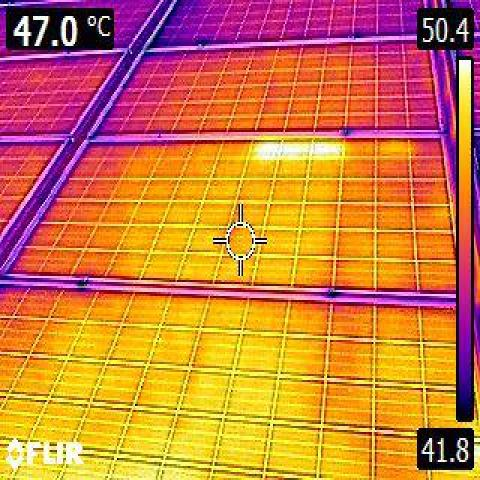fault: (281, 141, 313, 160), (253, 141, 280, 161), (316, 141, 342, 159)
